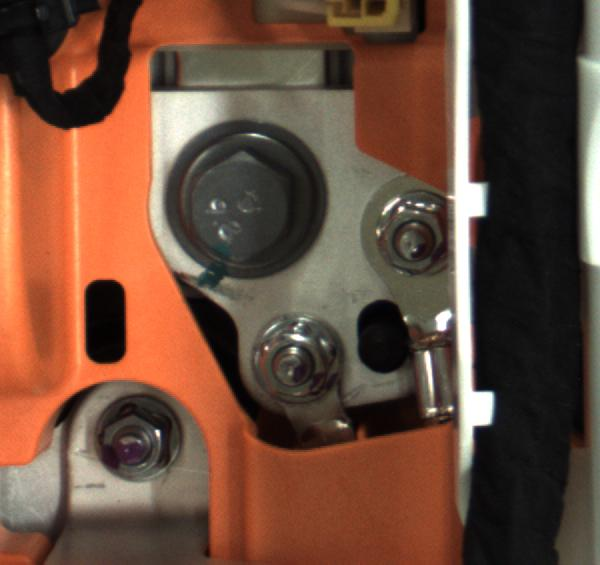screw_s: (365, 194, 452, 289), (250, 313, 339, 402), (90, 401, 176, 488)
